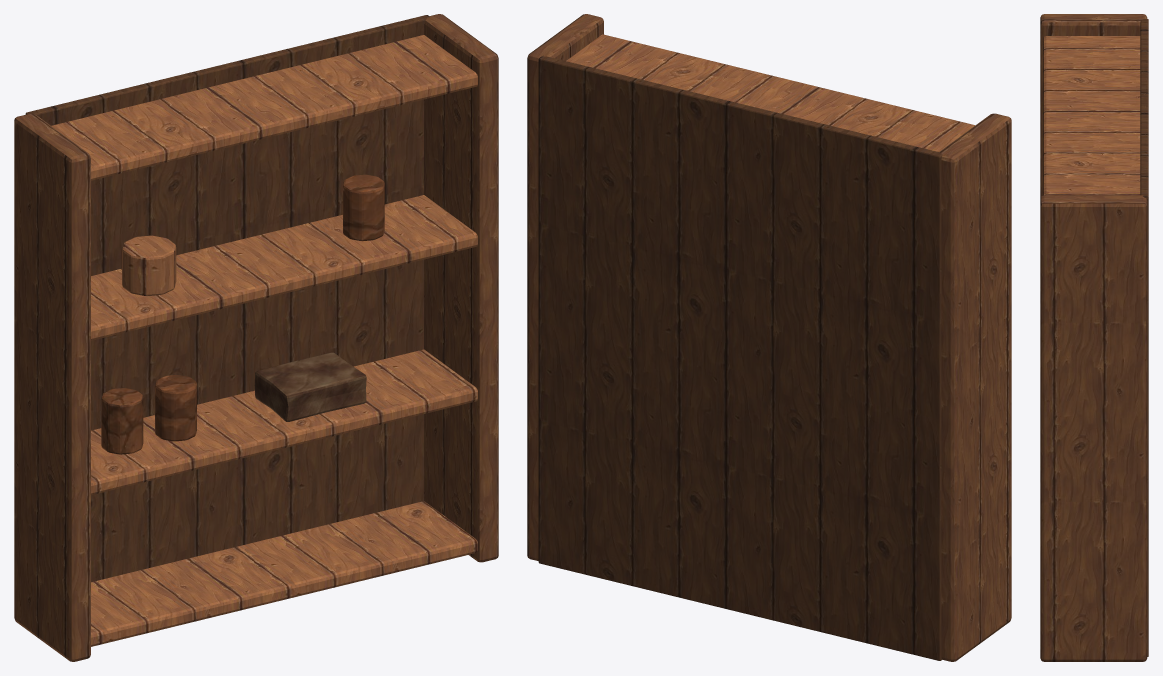
The model's file is shelf__plank_root.glb.
3 views of the same model, side by side, from view 1: azimuth 30°, elevation 25°; view 2: azimuth 150°, elevation 25°; view 3: azimuth 270°, elevation 25° (orthographic). The views are drawn at different scales.
Visible parts, largest first — view 1: model; view 2: model; view 3: model.
Part boxes in pixels (x1=…): model: x1=14, y1=14, x2=498, y2=661; model: x1=527, y1=14, x2=1011, y2=661; model: x1=1040, y1=14, x2=1148, y2=661.
Size of the model in its own units: 1.6 by 1.8 by 0.385.
5 materials, 5 textured.
